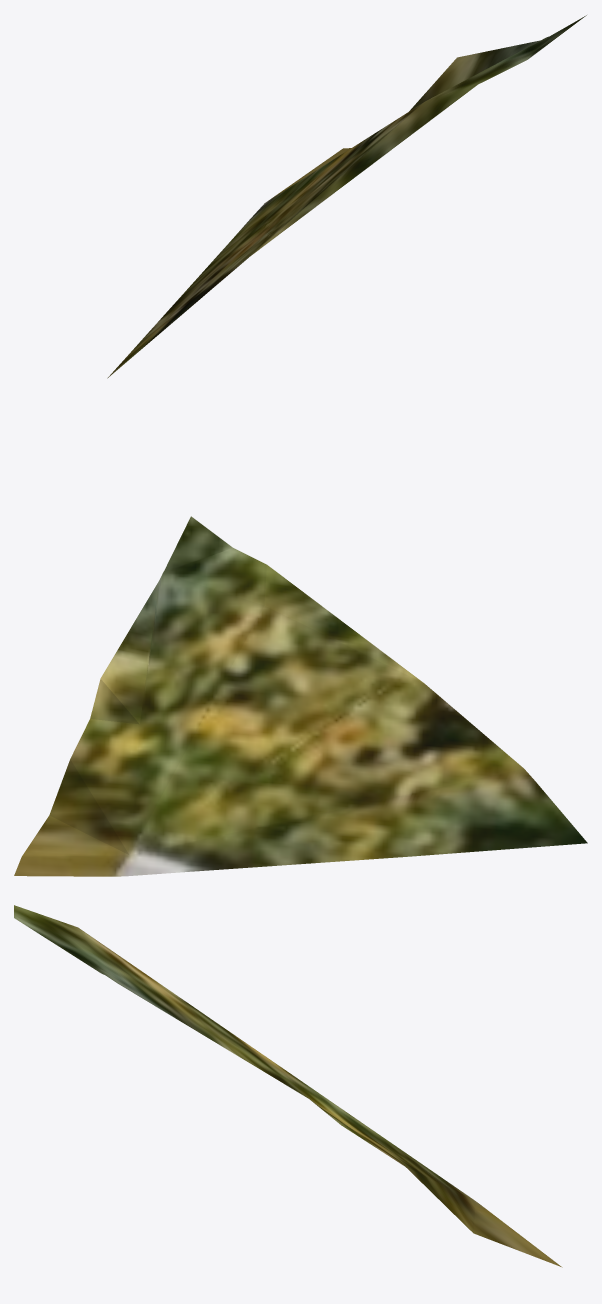
The picture shows the model from 3 angles, top to bottom: view 1: azimuth 30°, elevation 25°; view 2: azimuth 150°, elevation 25°; view 3: azimuth 270°, elevation 25°; orthographic projection. The views are drawn at different scales.
Bounding box in the file's own units: 1.56 × 0.8629 × 1.2.
Materials: 1 (1 with a texture image).
